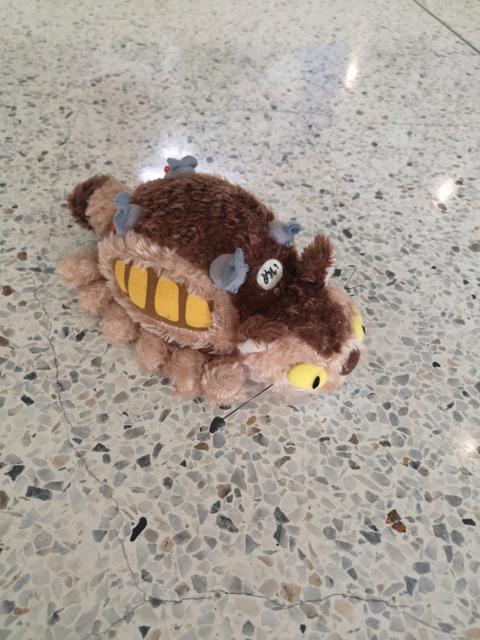nekobus: (55, 147, 373, 413)
